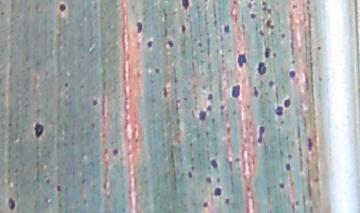tarspot: (30, 119, 48, 140), (161, 8, 172, 38), (234, 49, 250, 68), (255, 122, 267, 145), (4, 194, 20, 211), (133, 18, 146, 36), (195, 109, 210, 123), (221, 19, 233, 36), (256, 61, 269, 76), (231, 83, 242, 100), (55, 1, 70, 13), (206, 157, 221, 168), (271, 105, 286, 116), (179, 1, 195, 11), (165, 37, 177, 50), (263, 17, 275, 30), (110, 146, 122, 158), (161, 84, 170, 99), (152, 64, 163, 76), (282, 98, 294, 109), (212, 187, 225, 197), (262, 46, 272, 59), (282, 161, 293, 172), (179, 22, 189, 34), (33, 2, 43, 14), (146, 37, 155, 50), (252, 85, 261, 98), (44, 175, 54, 186), (287, 69, 298, 79), (88, 120, 98, 130), (248, 11, 258, 21), (55, 183, 64, 194), (79, 177, 90, 186), (290, 2, 301, 11), (311, 175, 322, 184), (306, 137, 313, 151), (205, 173, 214, 183), (267, 79, 277, 88), (257, 28, 267, 37), (171, 76, 181, 85), (223, 125, 233, 134), (234, 155, 243, 164), (81, 197, 91, 205), (34, 158, 41, 169), (278, 32, 289, 39), (205, 104, 214, 112), (215, 175, 223, 184), (182, 94, 190, 103), (231, 107, 239, 116), (13, 166, 21, 175), (90, 98, 100, 105), (205, 93, 215, 100), (136, 67, 142, 78), (202, 200, 210, 208), (247, 1, 255, 9), (196, 39, 204, 47), (289, 57, 298, 64), (1, 90, 8, 99), (56, 201, 65, 208), (61, 81, 71, 87), (314, 45, 324, 51), (186, 171, 193, 179), (224, 197, 231, 205), (278, 182, 286, 189), (278, 119, 287, 125), (80, 82, 87, 89), (6, 121, 13, 128), (219, 104, 226, 111), (1, 10, 8, 17), (245, 103, 252, 110), (317, 75, 325, 81), (232, 1, 240, 7), (272, 51, 278, 58), (287, 153, 294, 159), (262, 6, 267, 13), (295, 200, 300, 207), (268, 7, 272, 15), (262, 1, 267, 6)
